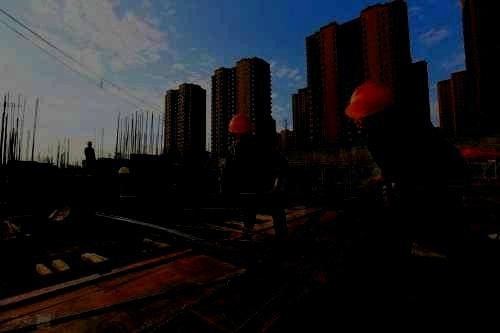helmet: (344, 77, 396, 139), (228, 111, 253, 145)
